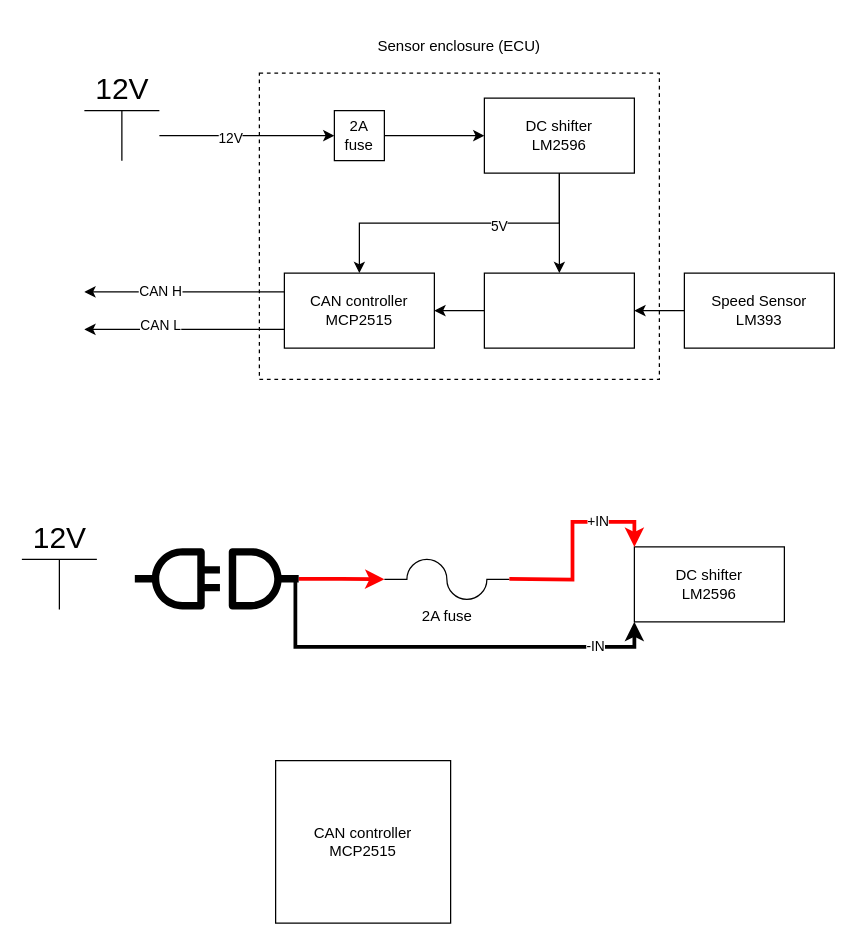
This 856x945 diagram has some shape labels left out. Here are the shapes that lost their labels. From the top down, the centre of each, then its label:
the point at 558,310: Microcontroller Blue Pill
the point at 216,578: XT60 Panel Connector
